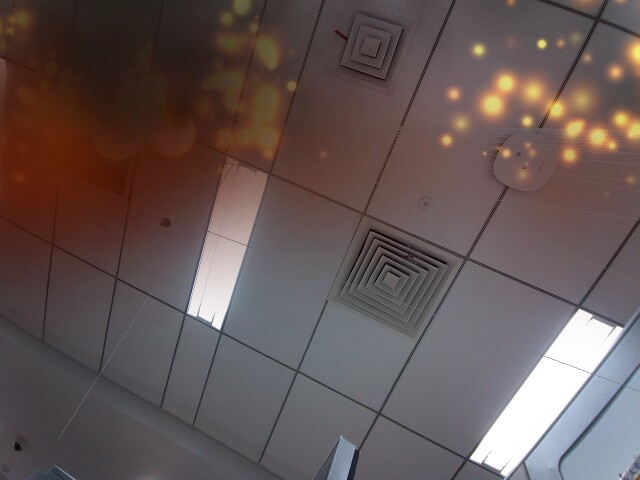fire: (152, 117, 197, 160)
